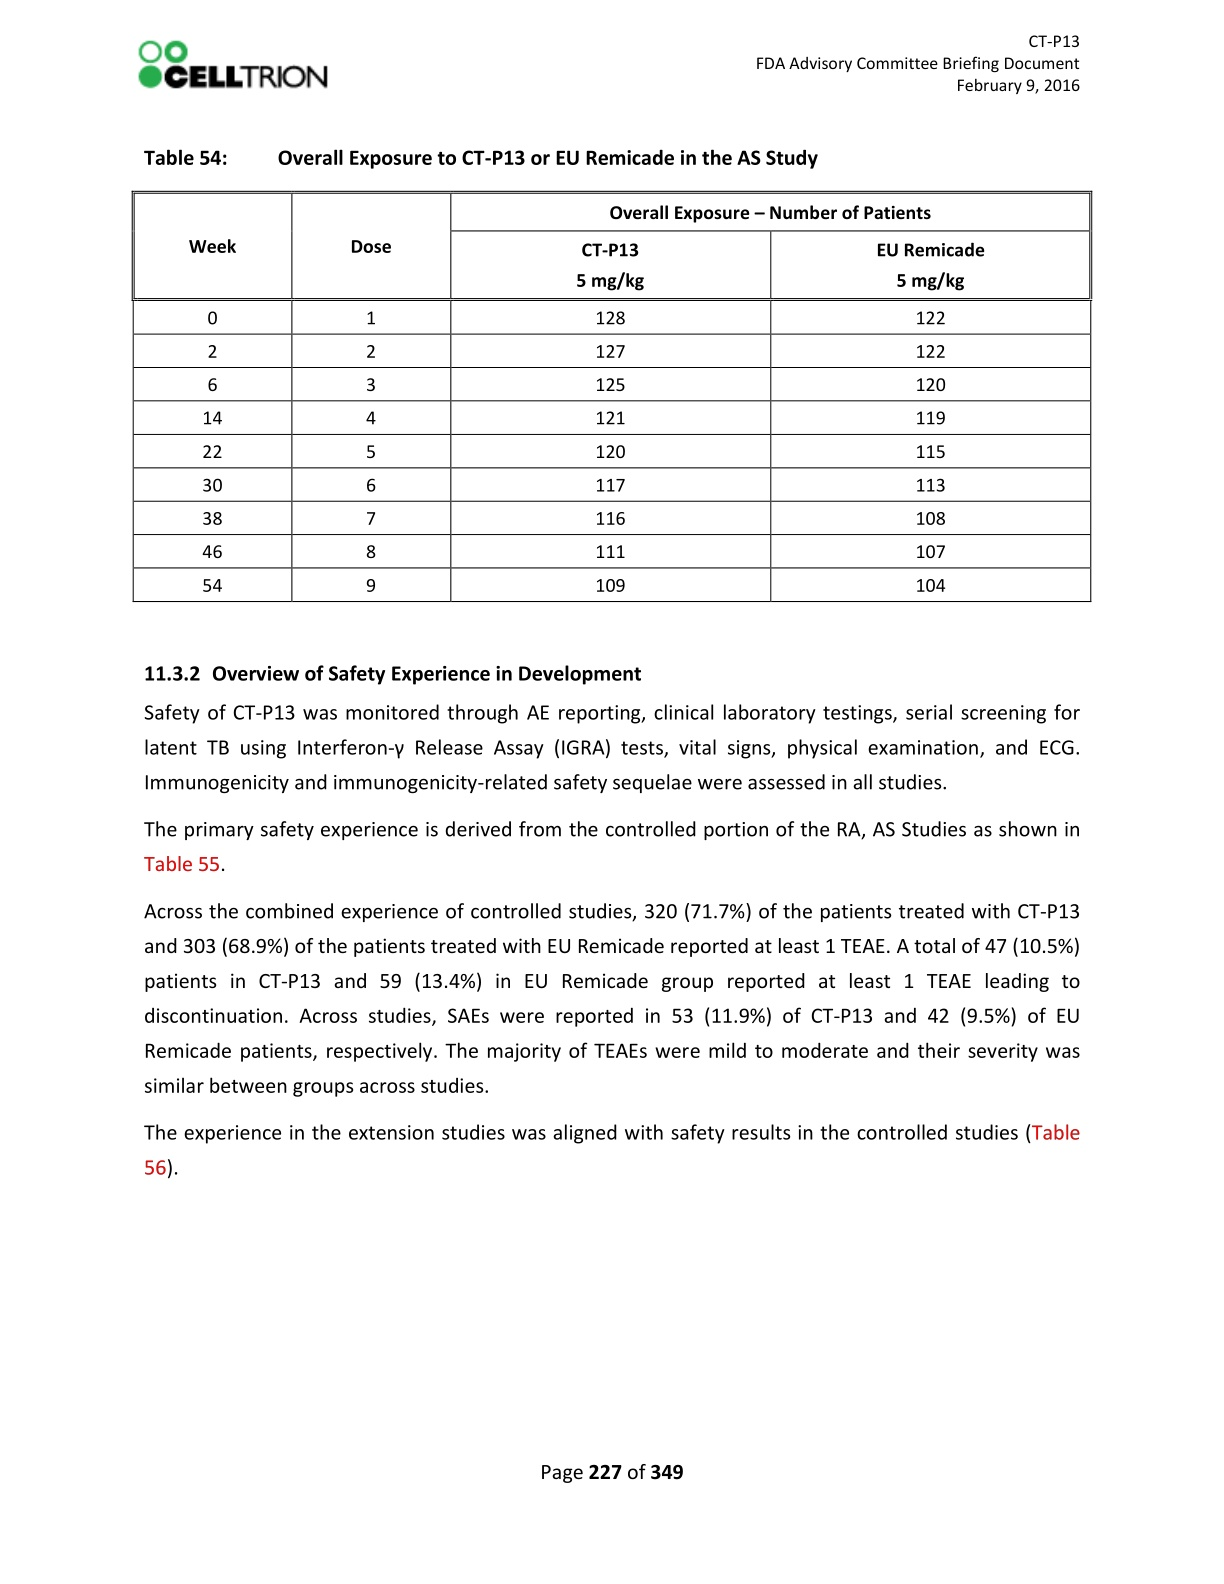merged_cells: (130, 189, 1093, 603)
